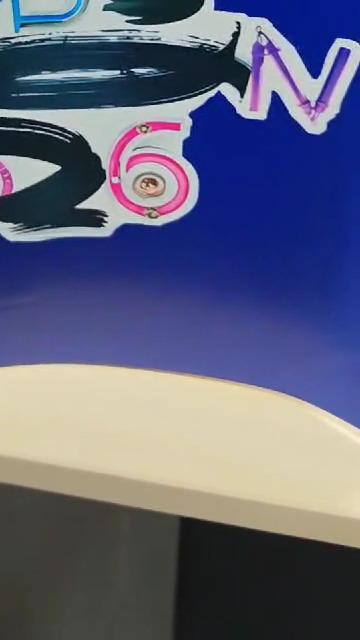B_R1: (0, 0, 359, 355)
